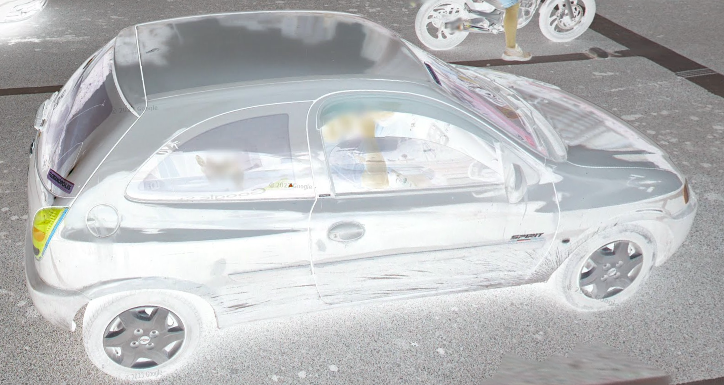car: (24, 12, 700, 384)
